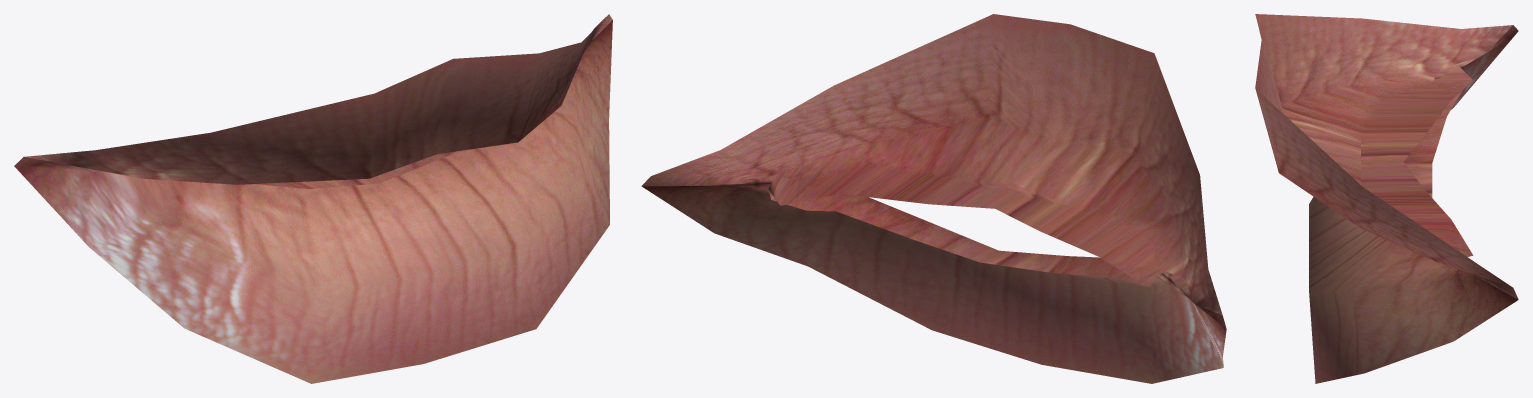
File: lips.gltf
3 renders of one model, left to right at view 1: azimuth 30°, elevation 25°; view 2: azimuth 150°, elevation 25°; view 3: azimuth 270°, elevation 25°, orthographic. The views are drawn at different scales.
Visible parts, largest first — view 1: mouth; view 2: mouth; view 3: mouth.
Part boxes in pixels (box(x1,y1,x2,y2)): mouth: box(14, 14, 612, 383); mouth: box(641, 14, 1226, 383); mouth: box(1255, 14, 1518, 383).
Size of the model in its own units: 1.86 by 0.9679 by 0.769.
1 material, 1 textured.
